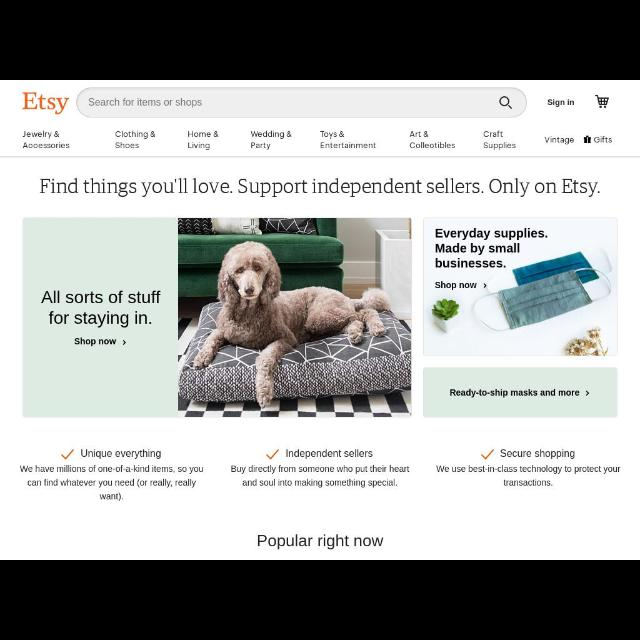icon: (595, 94, 611, 110), (264, 448, 280, 460), (500, 96, 512, 110), (60, 449, 74, 461), (481, 449, 495, 461), (584, 136, 592, 144), (584, 389, 590, 396), (122, 340, 126, 346)
image: (178, 218, 412, 418), (423, 218, 617, 356), (22, 91, 70, 115)
input: (76, 86, 528, 120)
multitab: (1, 122, 640, 158)
text: (40, 174, 602, 200), (18, 466, 204, 502), (40, 290, 164, 328), (231, 465, 411, 489), (436, 465, 622, 487), (256, 531, 384, 551), (450, 389, 580, 399), (88, 98, 204, 109), (320, 130, 378, 150), (21, 130, 70, 150), (408, 130, 457, 150), (114, 130, 158, 152), (286, 448, 372, 459), (80, 448, 162, 459), (250, 130, 294, 150), (500, 448, 576, 459), (186, 129, 220, 151), (481, 131, 517, 151), (73, 337, 117, 347), (543, 134, 575, 146), (547, 97, 575, 107), (594, 136, 614, 144)
toolbar: (1, 80, 640, 122)
